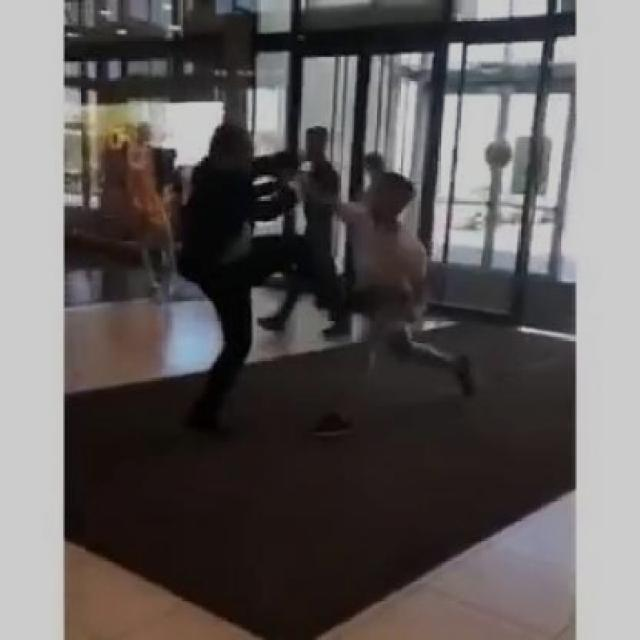fight: (140, 122, 474, 461)
non-fight: (260, 120, 371, 351)
